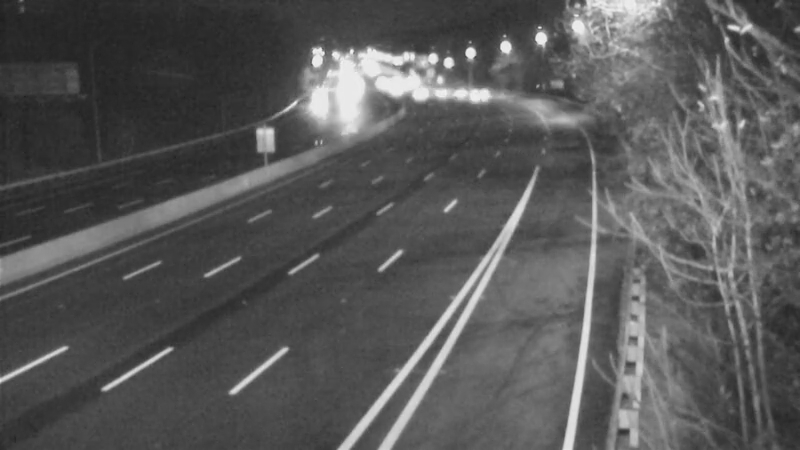vehicle: (434, 65, 484, 115), (416, 66, 466, 116), (456, 62, 506, 112)
